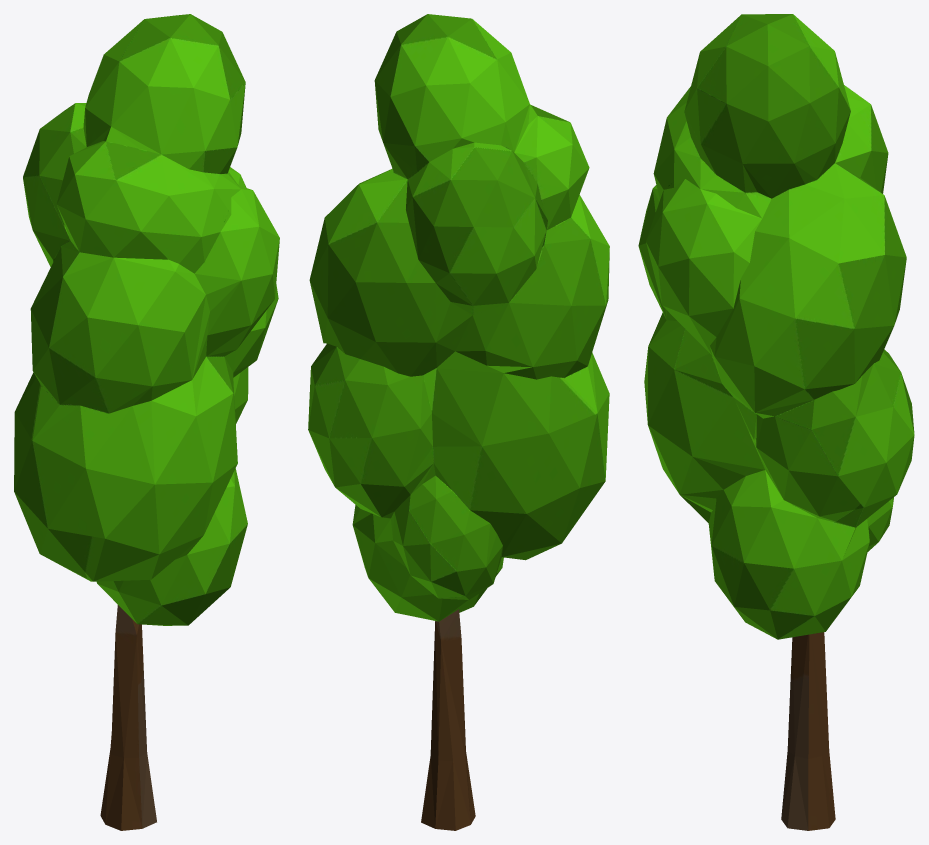
File: tree7.glb
The picture shows the model from 3 angles, left to right: view 1: azimuth 30°, elevation 25°; view 2: azimuth 150°, elevation 25°; view 3: azimuth 270°, elevation 25°; orthographic projection. The views are drawn at different scales.
Parts seen in each view (by area): view 1: geometry_0; view 2: geometry_0; view 3: geometry_0.
Boxes of the visible parts, x1,y1,x2,y2 form: geometry_0: [14, 14, 279, 830]; geometry_0: [308, 14, 609, 830]; geometry_0: [638, 14, 914, 830].
Bounding box in the file's own units: 0.9203 × 2.78 × 0.8525.
1 material, 1 textured.
